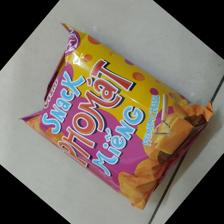Oishi_phomat: (18, 22, 215, 210)
